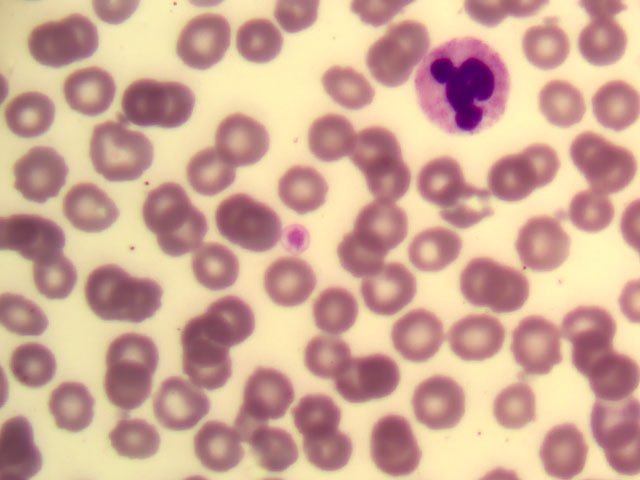Platelets: (282, 220, 309, 254)
RBC: (26, 20, 78, 72), (58, 11, 110, 63), (67, 64, 119, 116), (4, 81, 56, 133), (16, 146, 68, 198), (89, 127, 141, 179), (122, 79, 174, 131), (149, 79, 201, 131), (184, 143, 236, 195), (217, 111, 269, 163), (65, 183, 117, 235), (20, 216, 72, 268), (32, 247, 84, 299), (1, 293, 53, 345), (1, 339, 53, 391), (42, 384, 94, 436), (101, 363, 153, 415), (104, 325, 156, 377), (117, 273, 169, 325), (79, 263, 131, 315), (136, 181, 188, 233), (160, 210, 212, 262), (188, 235, 240, 287), (209, 291, 261, 343), (178, 310, 230, 362), (180, 342, 232, 394), (148, 380, 200, 432), (109, 410, 161, 462), (197, 425, 249, 477), (224, 394, 276, 446), (247, 370, 299, 422), (298, 336, 350, 388), (243, 420, 295, 472), (289, 417, 341, 469), (292, 397, 344, 449), (330, 358, 382, 410), (357, 353, 409, 405), (314, 289, 366, 341), (266, 260, 318, 312), (234, 206, 286, 258), (212, 188, 264, 240), (274, 163, 326, 215), (311, 113, 363, 165), (316, 66, 368, 118), (232, 11, 284, 63), (184, 17, 236, 69), (360, 42, 412, 94), (381, 16, 433, 68), (537, 77, 589, 129), (526, 23, 578, 75), (588, 15, 640, 67), (588, 74, 640, 126), (588, 146, 640, 198), (570, 130, 622, 182), (524, 138, 576, 190), (484, 149, 536, 201), (437, 183, 489, 235), (416, 159, 468, 211), (361, 198, 413, 250), (335, 235, 387, 287), (359, 160, 411, 212), (350, 124, 402, 176), (407, 224, 459, 276), (375, 260, 427, 312), (392, 309, 444, 361), (459, 309, 511, 361), (454, 254, 506, 306), (487, 267, 539, 319), (523, 210, 575, 262), (560, 191, 612, 243), (563, 295, 615, 347), (515, 317, 567, 369), (491, 376, 543, 428), (407, 372, 459, 424), (373, 413, 425, 465), (541, 422, 593, 474), (588, 388, 640, 440), (588, 352, 640, 404), (573, 330, 625, 382)
WBC: (414, 36, 512, 136)
